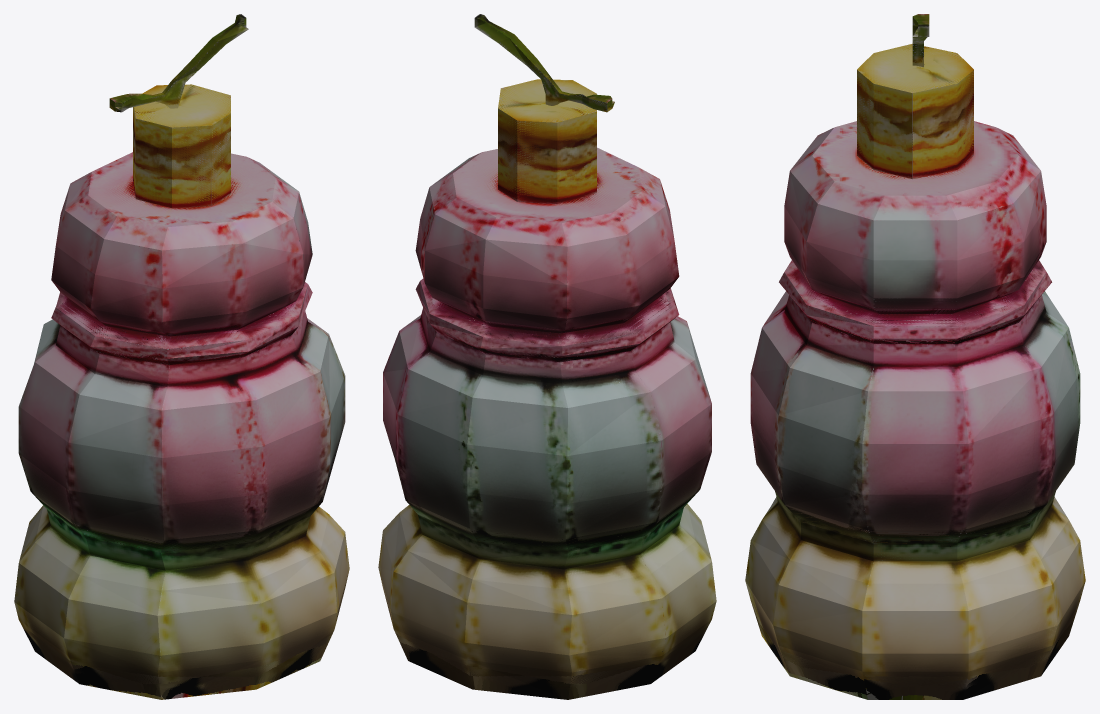
3 views of the same model, side by side, from view 1: azimuth 30°, elevation 25°; view 2: azimuth 150°, elevation 25°; view 3: azimuth 270°, elevation 25° (orthographic). The views are drawn at different scales.
Visible parts, largest first — view 1: textured.obj; view 2: textured.obj; view 3: textured.obj.
Boxes of the visible parts, box(x1,y1,x2,y2) form: textured.obj: box(14, 14, 349, 699); textured.obj: box(378, 14, 716, 699); textured.obj: box(745, 14, 1085, 699).
Size of the model in its own units: 0.9921 by 2 by 0.9606.
Materials: 1 (1 with a texture image).
